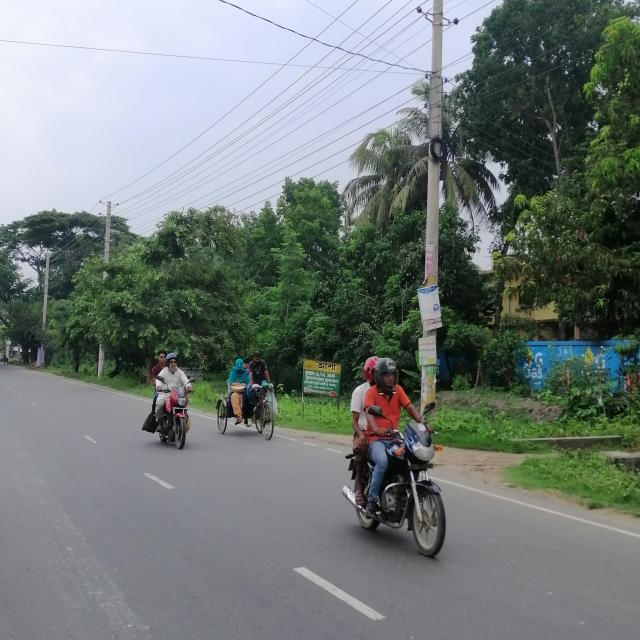Motorbike: (314, 402, 474, 572), (135, 379, 212, 463)
Van: (199, 359, 293, 457)
